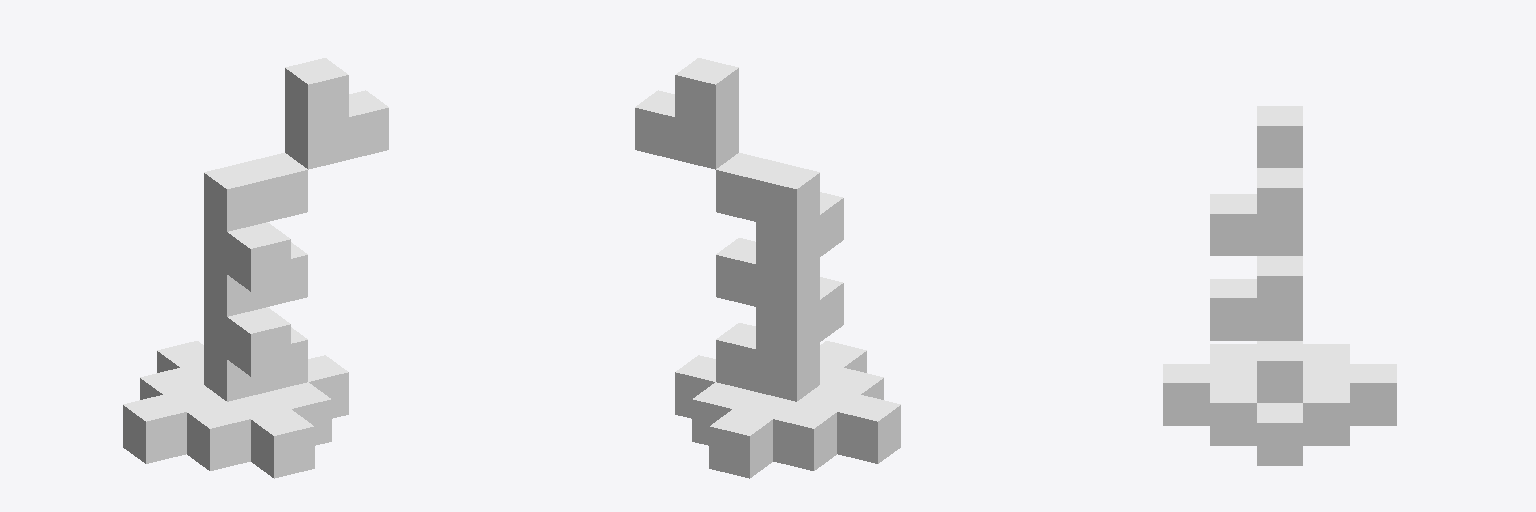
The model's file is Trees-4.obj.
3 views of the same model, side by side, from view 1: azimuth 30°, elevation 25°; view 2: azimuth 150°, elevation 25°; view 3: azimuth 270°, elevation 25° (orthographic).
Visible parts, largest first — view 1: object 1; view 2: object 1; view 3: object 1.
Part boxes in pixels (x1,y1,x2,y2): object 1: (123,58,388,478); object 1: (635,58,900,478); object 1: (1163,106,1396,465).
Size of the model in its own units: 0.6 by 0.8 by 0.5.